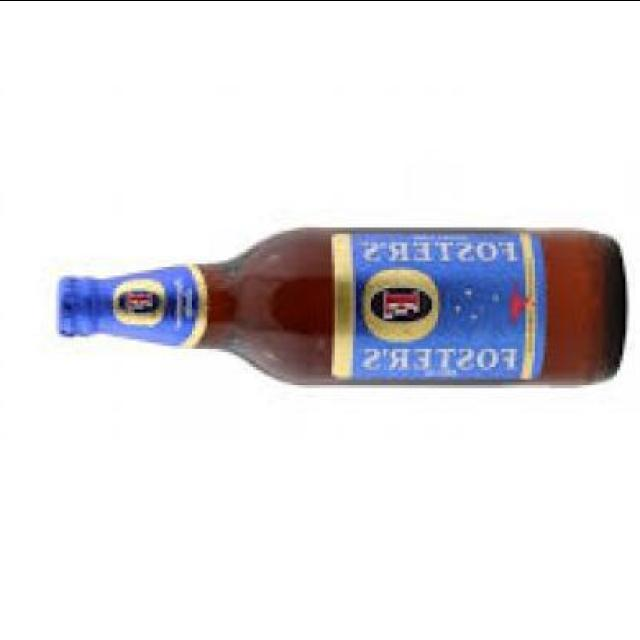kaca: (56, 223, 622, 381)
